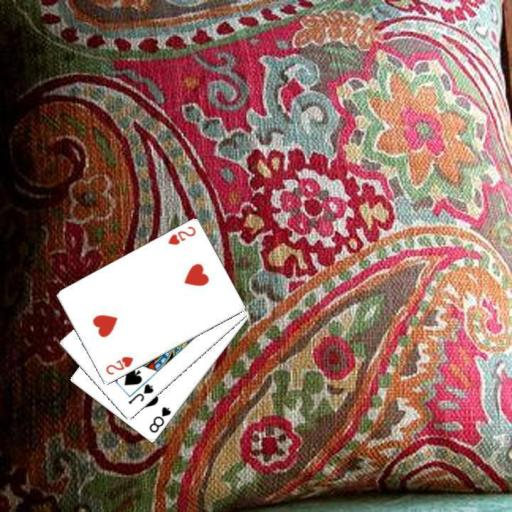card-corner: (146, 404, 173, 434), (164, 223, 197, 247), (125, 380, 155, 406), (102, 353, 134, 377)
